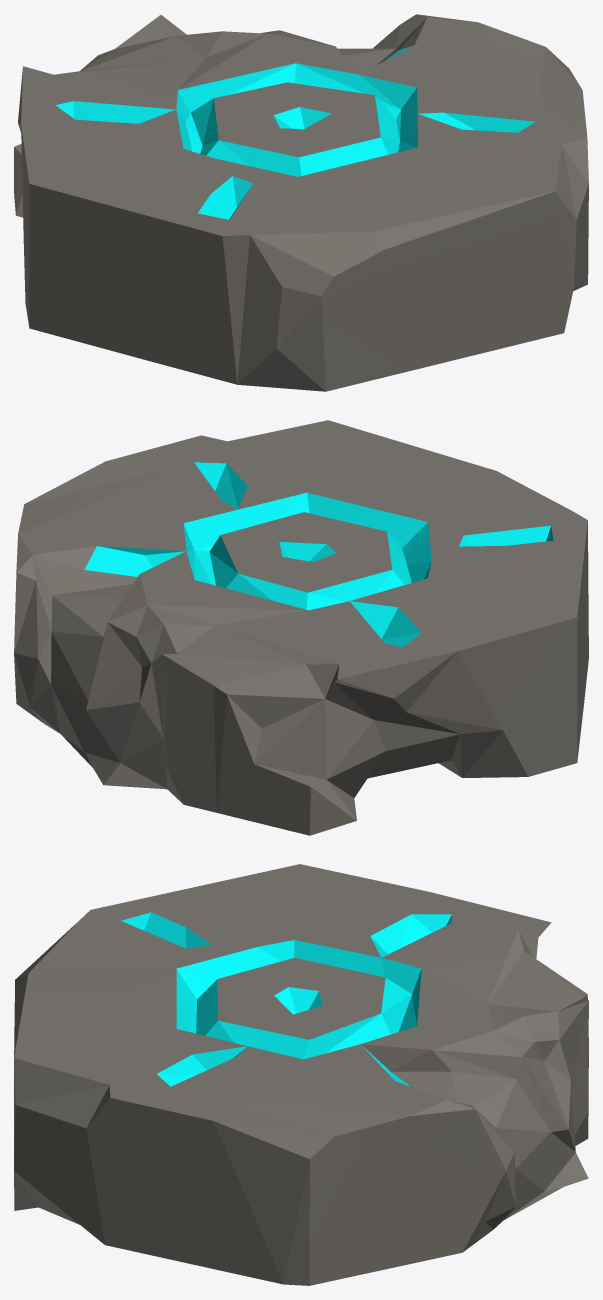
File: SM_Env_Rounded_A_04.glb
3 views of the same model, one above another, from view 1: azimuth 30°, elevation 25°; view 2: azimuth 150°, elevation 25°; view 3: azimuth 270°, elevation 25° (orthographic). The views are drawn at different scales.
Parts seen in each view (by area): view 1: SM_Env_Rounded_A_04; view 2: SM_Env_Rounded_A_04; view 3: SM_Env_Rounded_A_04.
Part boxes in pixels (x1,y1,x2,y2): SM_Env_Rounded_A_04: [14, 14, 588, 391]; SM_Env_Rounded_A_04: [14, 420, 588, 835]; SM_Env_Rounded_A_04: [14, 864, 588, 1285].
Size of the model in its own units: 2.71 by 0.6871 by 2.41.
Materials: 1 (1 with a texture image).
